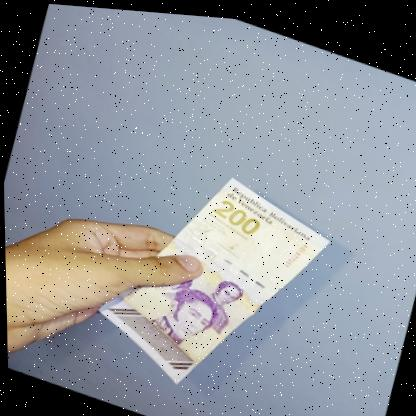two_hundred-front-vef: (80, 136, 341, 416)
